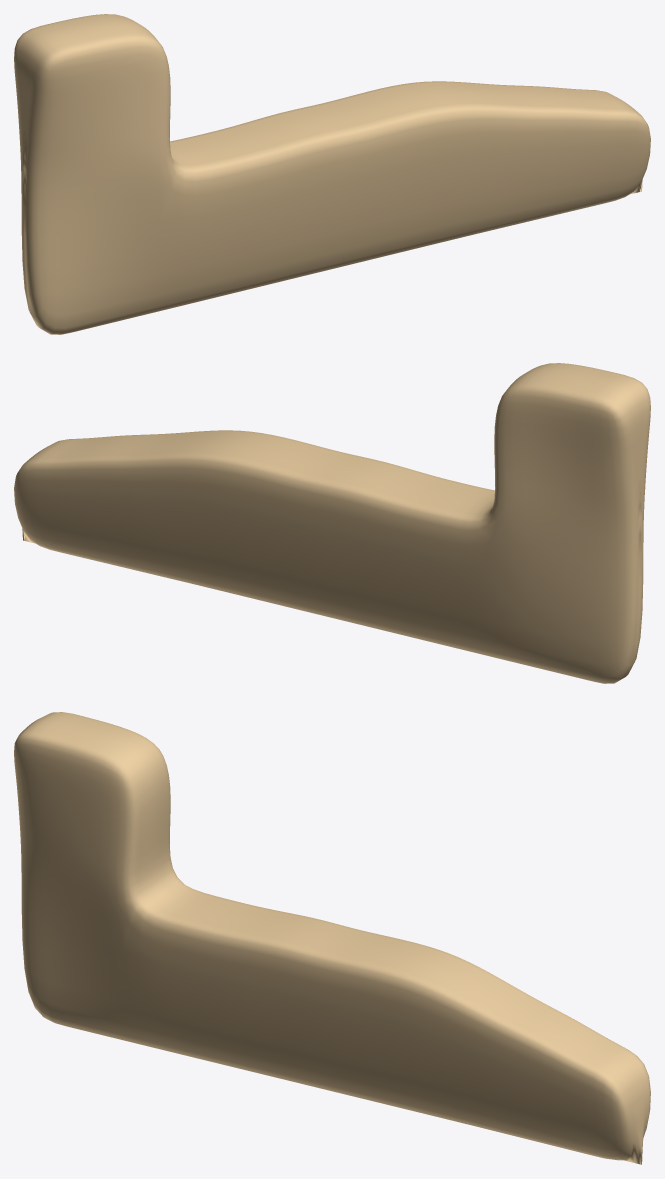
The model's file is sand.glb.
The picture shows the model from 3 angles, top to bottom: view 1: azimuth 30°, elevation 25°; view 2: azimuth 150°, elevation 25°; view 3: azimuth 330°, elevation 25°; orthographic projection.
Visible parts, largest first — view 1: Plane; view 2: Plane; view 3: Plane.
Boxes of the visible parts, x1,y1,x2,y2 form: Plane: (14, 14, 650, 334); Plane: (14, 363, 650, 683); Plane: (14, 712, 650, 1164).
Size of the model in its own units: 31.29 by 14.56 by 3.86.
